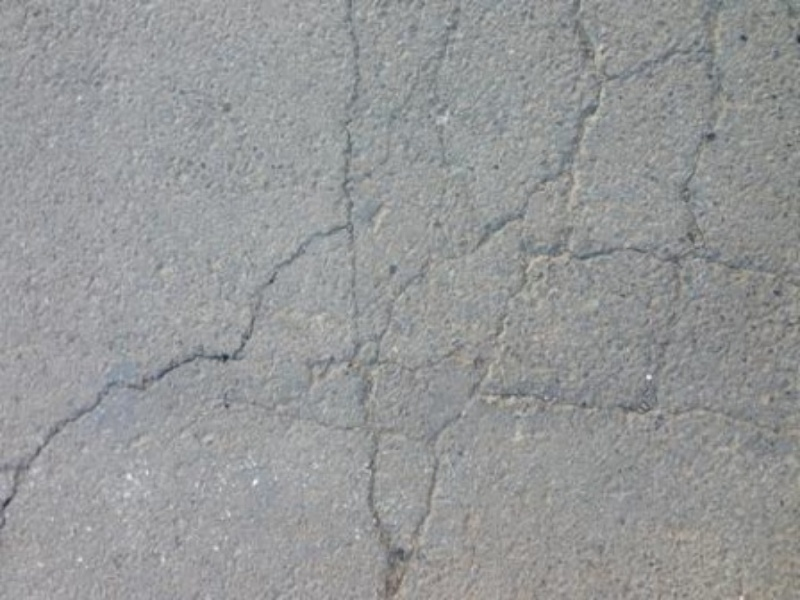crack: (7, 208, 363, 549), (413, 9, 620, 542), (304, 14, 419, 590), (621, 5, 726, 406), (458, 371, 790, 452), (542, 231, 791, 316)
